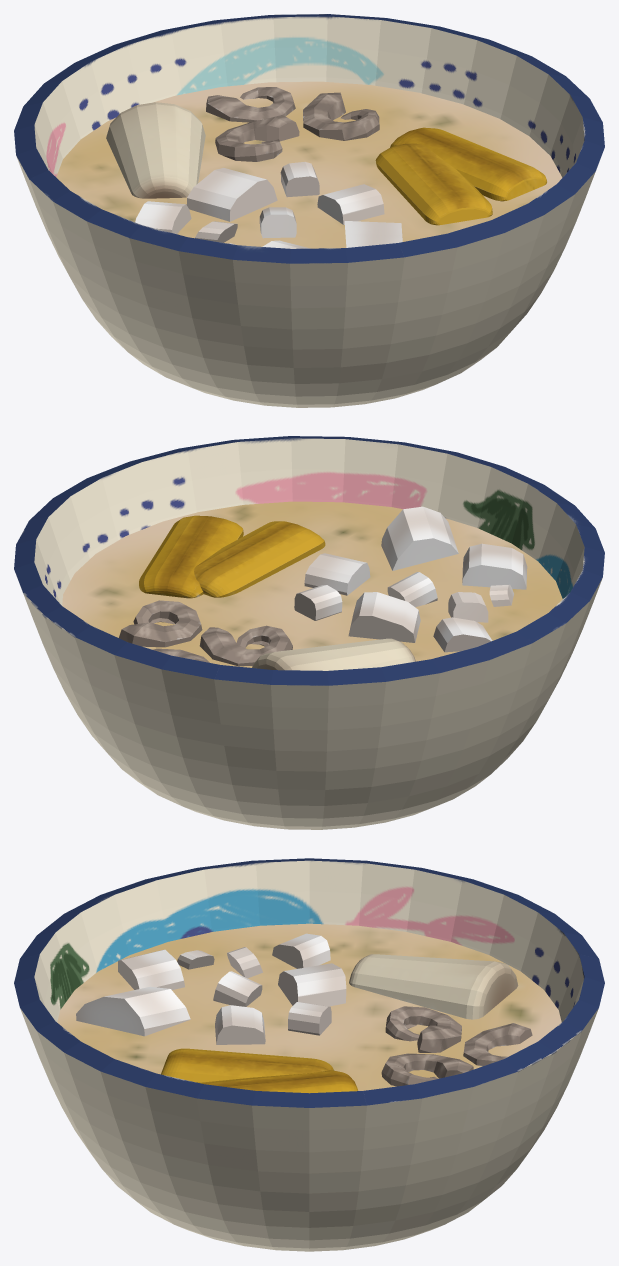
File: plaatorondonbx.fbx
3 views of the same model, one above another, from view 1: azimuth 30°, elevation 25°; view 2: azimuth 150°, elevation 25°; view 3: azimuth 270°, elevation 25° (orthographic).
Parts seen in each view (by area): view 1: Sphere, Cylinder.001, Cube.005, Cylinder.003, Cylinder.004, Cylinder.002, Vuelta_04, Vuelta_04.001, Vuelta_04.002; view 2: Sphere, Cylinder.001, Cube.005, Cylinder.004, Cylinder.002, Cylinder.003, Vuelta_04.001, Vuelta_04; view 3: Sphere, Cylinder.001, Cube.005, Cylinder.003, Cylinder.004, Cylinder.002, Vuelta_04, Vuelta_04.001, Vuelta_04.002.
Part boxes in pixels (box(x1,y1,x2,y2)): Sphere: box(14, 14, 604, 407); Cylinder.001: box(56, 81, 562, 248); Cube.005: box(135, 162, 402, 248); Cylinder.003: box(106, 102, 205, 198); Cylinder.004: box(375, 143, 492, 225); Cylinder.002: box(390, 127, 546, 201); Vuelta_04: box(215, 116, 299, 161); Vuelta_04.001: box(303, 92, 379, 140); Vuelta_04.002: box(206, 87, 295, 122); Sphere: box(14, 436, 604, 829); Cylinder.001: box(62, 501, 562, 667); Cube.005: box(294, 506, 527, 652); Cylinder.004: box(194, 521, 325, 597); Cylinder.002: box(139, 515, 243, 598); Cylinder.003: box(252, 638, 415, 670); Vuelta_04.001: box(119, 600, 202, 647); Vuelta_04: box(199, 625, 292, 666); Sphere: box(14, 858, 604, 1251); Cylinder.001: box(57, 923, 561, 1090); Cube.005: box(76, 933, 346, 1044); Cylinder.003: box(349, 954, 518, 1019); Cylinder.004: box(161, 1048, 333, 1082); Cylinder.002: box(200, 1070, 357, 1093); Vuelta_04: box(386, 1006, 461, 1052); Vuelta_04.001: box(381, 1053, 473, 1086); Vuelta_04.002: box(463, 1023, 532, 1066).
Bounding box in the file's own units: 76.9 × 32.19 × 76.9.
Materials: 9 (9 with a texture image).
